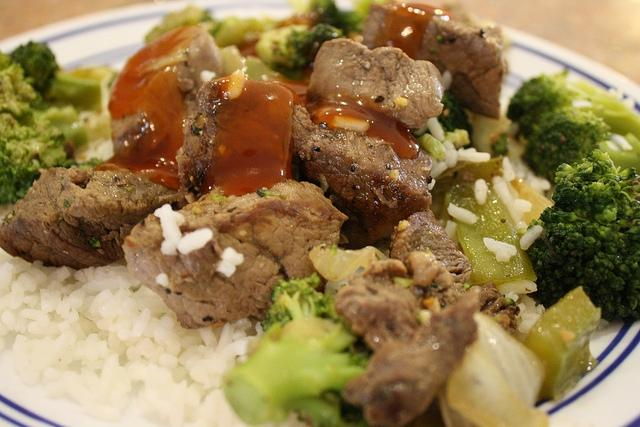broccoli: (224, 270, 372, 422), (526, 148, 640, 324), (0, 54, 111, 202), (430, 154, 538, 286), (505, 68, 640, 140), (521, 106, 638, 184), (524, 285, 602, 402), (10, 40, 109, 113), (253, 23, 342, 78), (310, 3, 371, 38), (208, 16, 266, 48), (491, 132, 508, 157)
